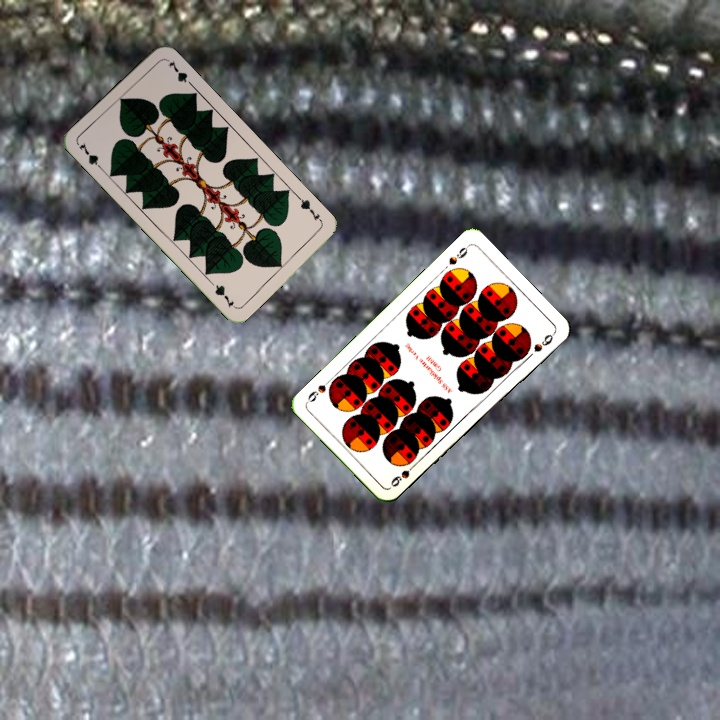G7: (74, 139, 106, 173), (294, 193, 325, 226)
S9: (387, 458, 420, 490), (445, 241, 472, 267)
